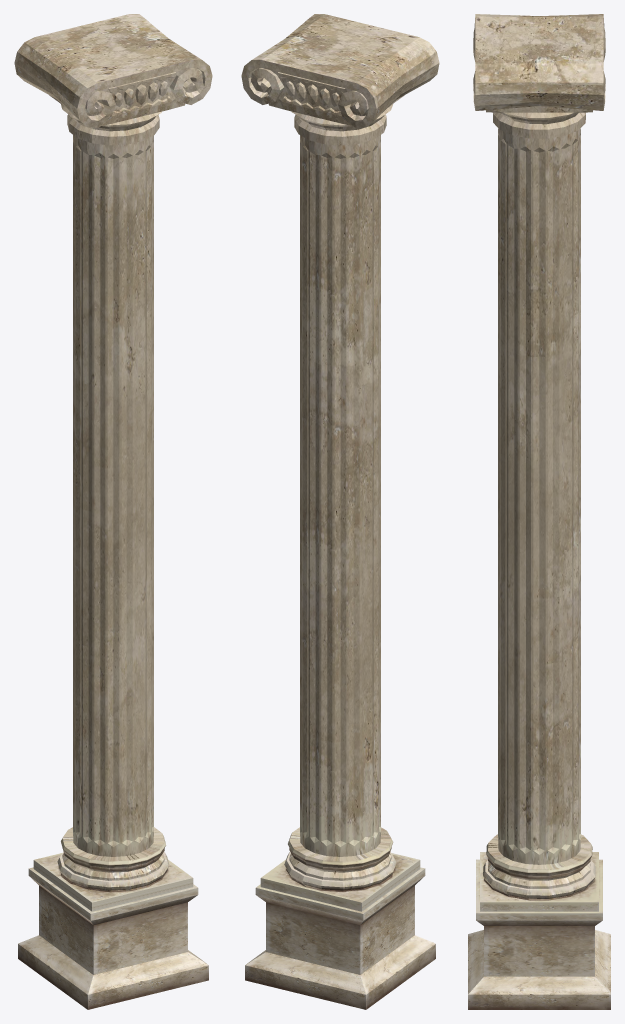
The model's file is column.FBX.
3 renders of one model, left to right at view 1: azimuth 30°, elevation 25°; view 2: azimuth 150°, elevation 25°; view 3: azimuth 270°, elevation 25°, orthographic. The views are drawn at different scales.
Visible parts, largest first — view 1: column_L015; view 2: column_L015; view 3: column_L015.
Boxes of the visible parts, <box> form: column_L015: <box>14,14,212,1009</box>; column_L015: <box>241,14,439,1009</box>; column_L015: <box>468,14,610,1009</box>.
Size of the model in its own units: 80.05 by 521 by 71.77.
